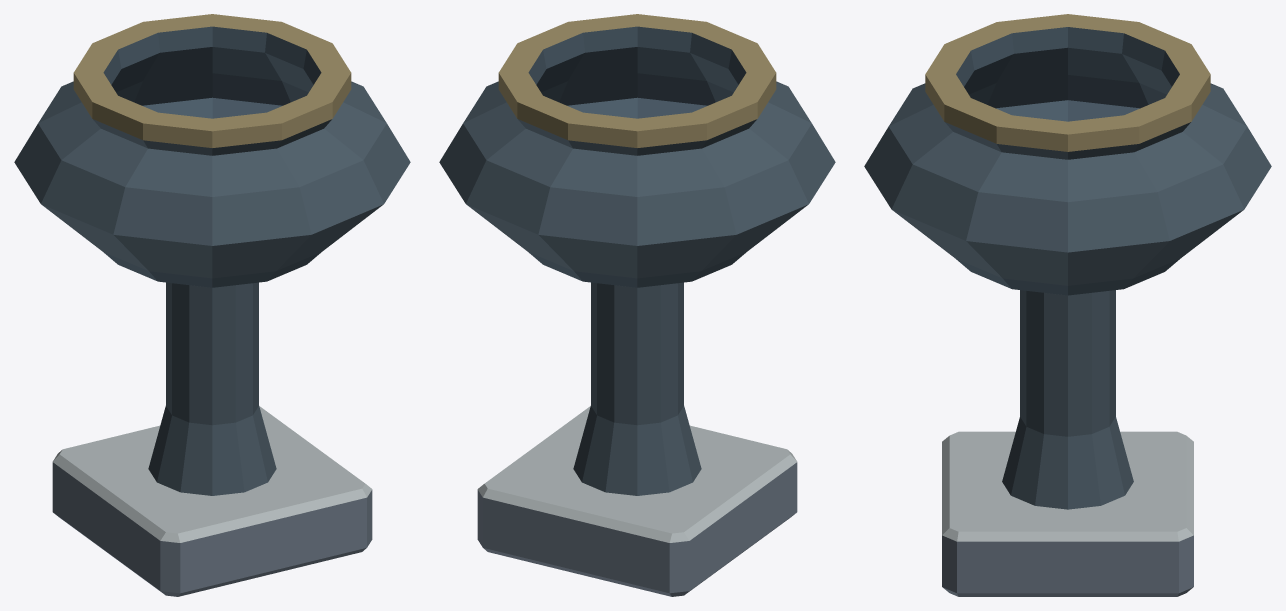
File: brazier.glb
3 renders of one model, left to right at view 1: azimuth 30°, elevation 25°; view 2: azimuth 150°, elevation 25°; view 3: azimuth 270°, elevation 25°, orthographic. The views are drawn at different scales.
Parts seen in each view (by area): view 1: brazier__body; view 2: brazier__body; view 3: brazier__body.
Part boxes in pixels (x1=…): brazier__body: x1=14, y1=14, x2=410, y2=596; brazier__body: x1=439, y1=14, x2=835, y2=596; brazier__body: x1=864, y1=14, x2=1271, y2=596.
Size of the model in its own units: 0.68 by 0.87 by 0.68.
